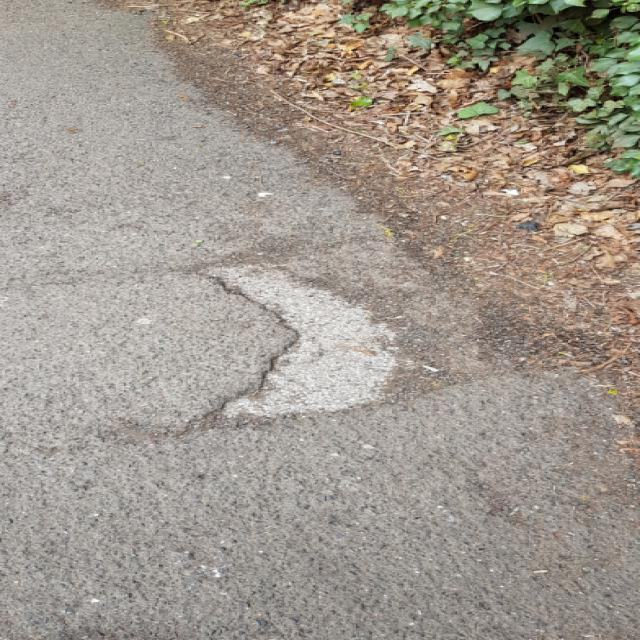Pothole: (173, 258, 416, 432)
